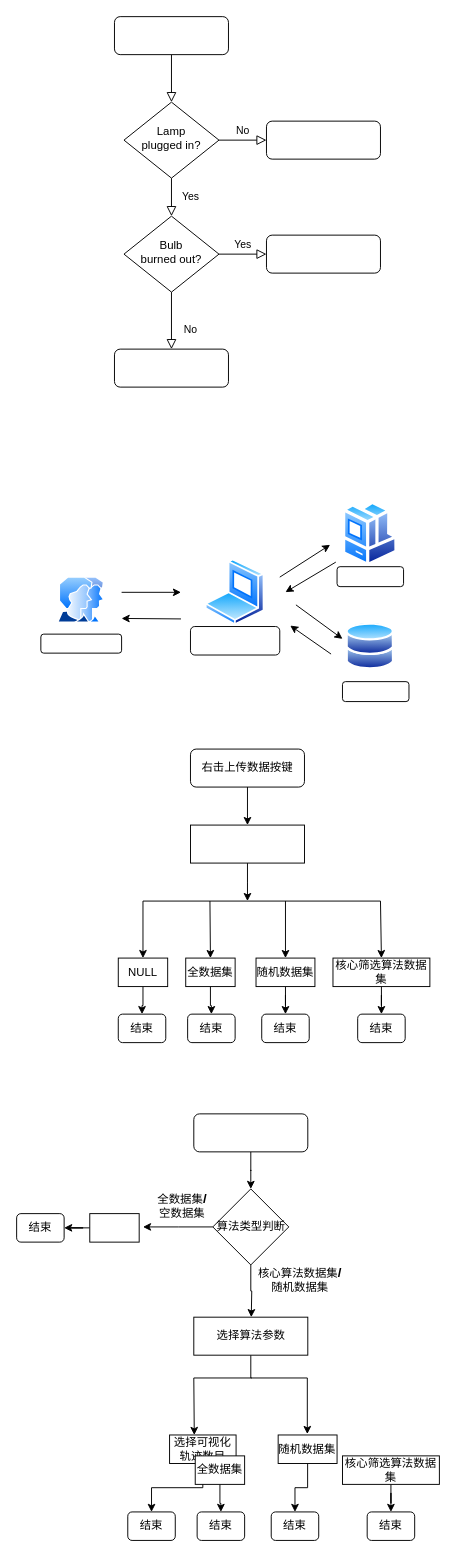
Some shapes in this 456 by 1557 pixel diagram are drawn without their labels. The centre of each missing label's shape, as x and y in pixels:
"Lamp doesn't work" belongs at pixel 171 35.
"Plug in lamp" belongs at pixel 323 139.
"Repair Lamp" belongs at pixel 171 367.
"Replace Bulb" belongs at pixel 323 253.
"交通信息探索系统" belongs at pixel 235 640.
"可视化展示" belongs at pixel 114 1227.
"右击算法选择按键" belongs at pixel 250 1132.
"实时计算" belongs at pixel 370 576.
"用户" belongs at pixel 81 643.
"离线存储" belongs at pixel 375 691.
"选择上传数据类型" belongs at pixel 247 843.
